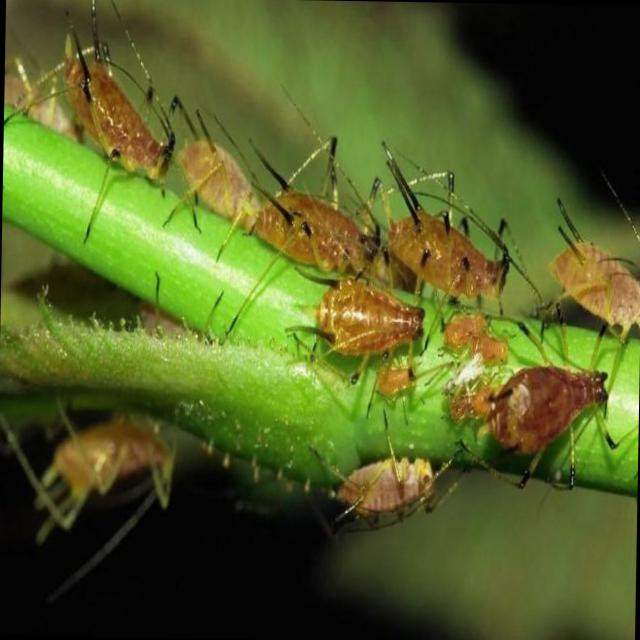aphid: (282, 248, 454, 412), (473, 344, 636, 498), (248, 143, 399, 307), (294, 424, 467, 552), (397, 162, 519, 334), (51, 28, 173, 198), (544, 225, 640, 348), (180, 122, 265, 232), (370, 353, 430, 414), (467, 328, 516, 369)
